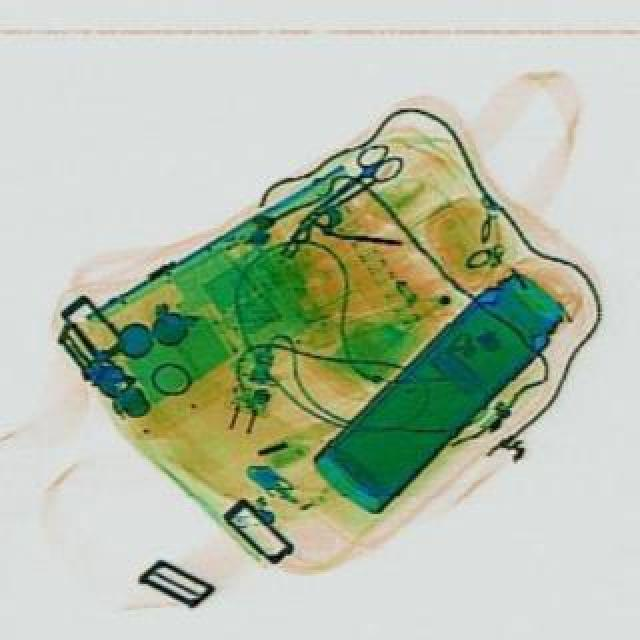pliers: (288, 134, 408, 234)
